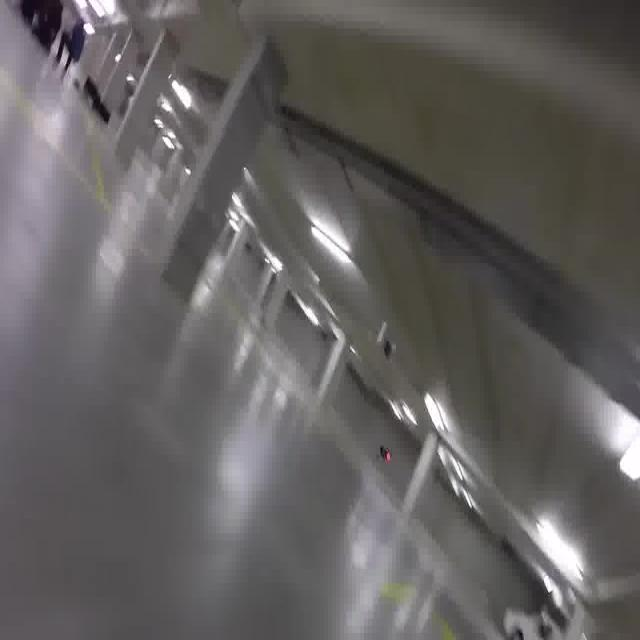drone: (375, 441, 394, 467)
